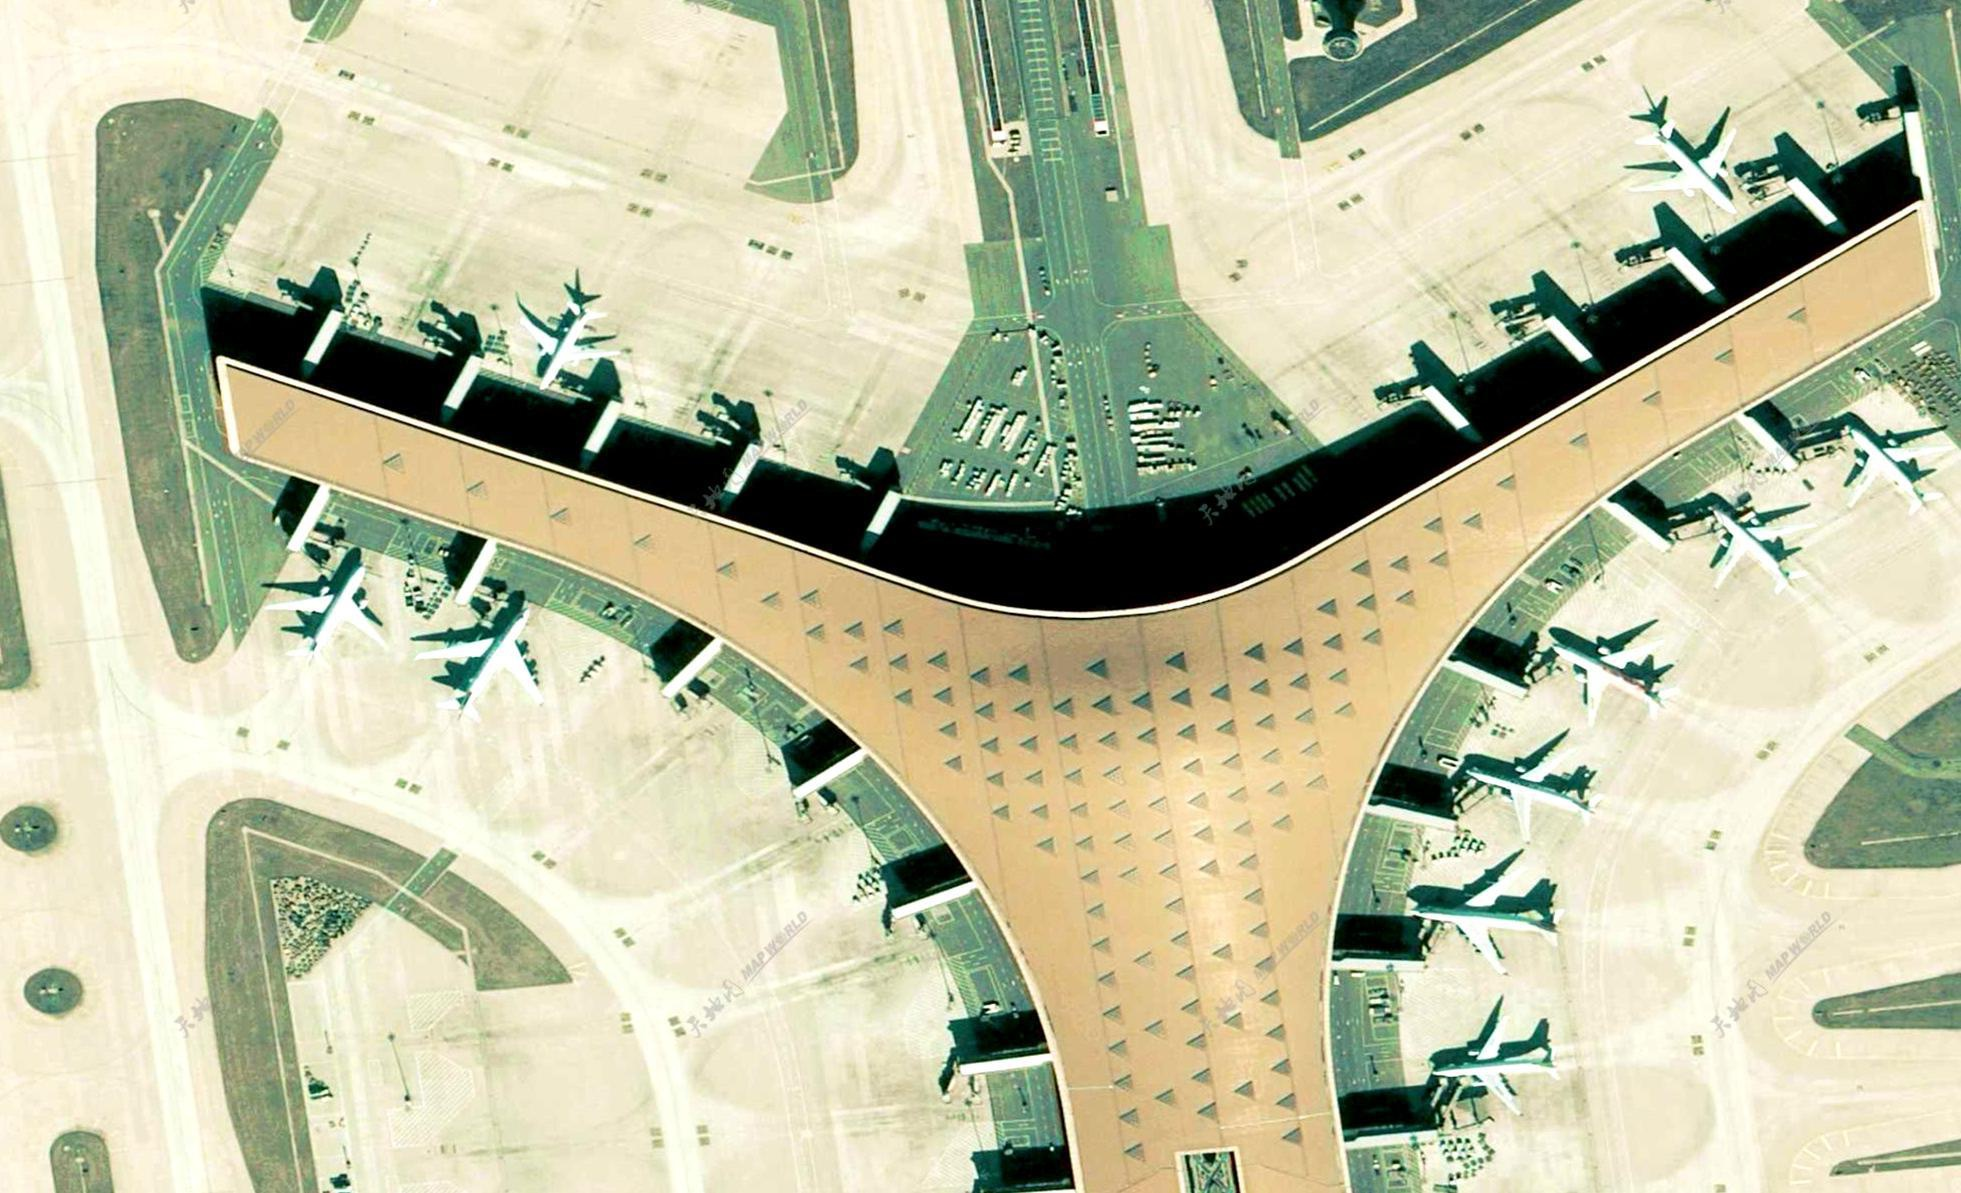aircraft: (1404, 861, 1577, 982), (409, 604, 564, 735), (1457, 727, 1607, 851), (1419, 1010, 1577, 1119), (1616, 105, 1754, 225), (256, 557, 396, 674), (1546, 627, 1686, 737), (1820, 414, 1953, 521), (1695, 497, 1815, 609), (507, 286, 628, 395)
